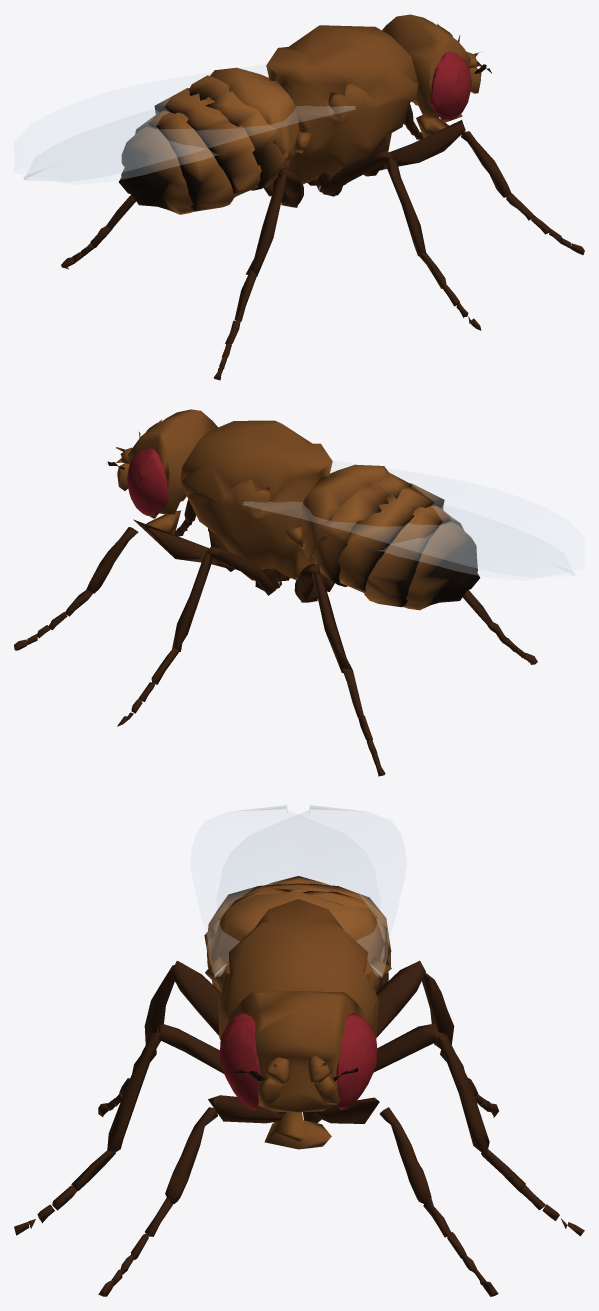
File: fly-far.glb
3 views of the same model, one above another, from view 1: azimuth 30°, elevation 25°; view 2: azimuth 150°, elevation 25°; view 3: azimuth 270°, elevation 25° (orthographic). The views are drawn at different scales.
Visible parts, largest first — view 1: c_thorax, l_wing, r_wing, c_head, rf_trochanterfemur, rh_tibia, rm_tibia, rm_trochanterfemur, rh_tarsus1, rf_tibia, lh_tarsus1, rf_tarsus1 (+2 smaller); view 2: c_thorax, r_wing, l_wing, c_head, lf_trochanterfemur, lh_tibia, lm_tibia, lm_trochanterfemur, lf_tibia, lh_tarsus1, rh_tarsus1, lf_tarsus1 (+2 smaller); view 3: c_thorax, c_head, r_wing, l_wing, lm_tibia, rm_tibia, lh_trochanterfemur, rh_trochanterfemur, rf_tibia, lm_trochanterfemur, lf_tibia, rm_trochanterfemur (+8 smaller).
Boxes of the visible parts, left/top/right/bottom form: c_thorax: left=119, top=25, right=418, bottom=214; l_wing: left=14, top=65, right=268, bottom=184; r_wing: left=24, top=106, right=355, bottom=181; c_head: left=382, top=14, right=491, bottom=137; rf_trochanterfemur: left=379, top=120, right=465, bottom=170; rh_tibia: left=245, top=171, right=287, bottom=276; rm_tibia: left=386, top=157, right=426, bottom=256; rm_trochanterfemur: left=323, top=150, right=395, bottom=196; rh_tarsus1: left=213, top=270, right=256, bottom=380; rf_tibia: left=461, top=131, right=511, bottom=197; lh_tarsus1: left=61, top=194, right=135, bottom=269; rf_tarsus1: left=506, top=193, right=584, bottom=254; c_thorax: left=180, top=420, right=479, bottom=610; r_wing: left=330, top=460, right=584, bottom=580; l_wing: left=243, top=501, right=575, bottom=577; c_head: left=107, top=409, right=217, bottom=534; lf_trochanterfemur: left=133, top=519, right=227, bottom=567; lh_tibia: left=312, top=573, right=352, bottom=672; lm_tibia: left=172, top=550, right=211, bottom=651; lm_trochanterfemur: left=204, top=545, right=275, bottom=595; lf_tibia: left=86, top=527, right=138, bottom=593; lh_tarsus1: left=342, top=668, right=385, bottom=776; rh_tarsus1: left=462, top=590, right=537, bottom=664; lf_tarsus1: left=14, top=590, right=93, bottom=650; c_thorax: left=204, top=876, right=391, bottom=1039; c_head: left=220, top=991, right=377, bottom=1149; r_wing: left=190, top=805, right=380, bottom=977; l_wing: left=216, top=805, right=406, bottom=977; lm_tibia: left=433, top=1031, right=489, bottom=1153; rm_tibia: left=107, top=1032, right=160, bottom=1152; lh_trochanterfemur: left=376, top=960, right=425, bottom=1037; rh_trochanterfemur: left=171, top=961, right=220, bottom=1035; rf_tibia: left=165, top=1107, right=217, bottom=1203; lm_trochanterfemur: left=374, top=1023, right=439, bottom=1072; lf_tibia: left=379, top=1107, right=431, bottom=1204; rm_trochanterfemur: left=157, top=1023, right=223, bottom=1073.
Bounding box in the file's own units: 2.09 × 0.9944 × 1.64.
